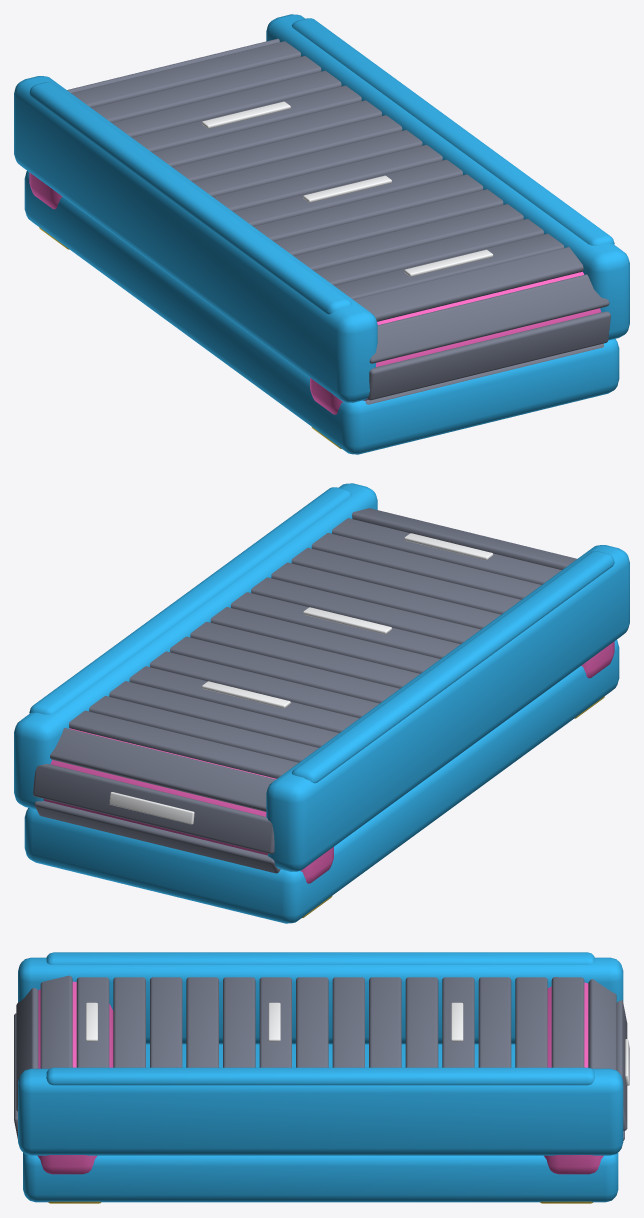
File: DF_belt.glb
The picture shows the model from 3 angles, top to bottom: view 1: azimuth 30°, elevation 25°; view 2: azimuth 150°, elevation 25°; view 3: azimuth 270°, elevation 25°; orthographic projection. The views are drawn at different scales.
Visible parts, largest first — view 1: Conveyor_LeftHousing, Conveyor_Base, Conveyor_RightHousing, Conveyor_LeftTopRail, Conveyor_Slat_35, Conveyor_Slat_34, Conveyor_RightTopRail, Conveyor_Slat_00, Conveyor_Slat_03, Conveyor_Slat_04, Conveyor_Slat_05, Conveyor_Slat_07 (+16 smaller); view 2: Conveyor_LeftHousing, Conveyor_Base, Conveyor_RightHousing, Conveyor_LeftTopRail, Conveyor_Slat_16, Conveyor_RightTopRail, Conveyor_Slat_15, Conveyor_Slat_14, Conveyor_Slat_03, Conveyor_Slat_04, Conveyor_Slat_07, Conveyor_Slat_08 (+16 smaller); view 3: Conveyor_RightHousing, Conveyor_Base, Conveyor_LeftHousing, Conveyor_RightTopRail, Conveyor_LeftTopRail, Conveyor_Slat_10, Conveyor_Slat_12, Conveyor_Slat_14, Conveyor_Slat_02, Conveyor_Slat_03, Conveyor_Slat_04, Conveyor_Slat_05 (+19 smaller).
Part boxes in pixels (left/top/right/bottom): Conveyor_LeftHousing: left=14, top=76, right=377, bottom=402; Conveyor_Base: left=24, top=171, right=619, bottom=454; Conveyor_RightHousing: left=266, top=14, right=629, bottom=340; Conveyor_LeftTopRail: left=29, top=82, right=351, bottom=314; Conveyor_Slat_35: left=369, top=274, right=609, bottom=363; Conveyor_Slat_34: left=367, top=311, right=610, bottom=400; Conveyor_RightTopRail: left=292, top=18, right=614, bottom=245; Conveyor_Slat_00: left=353, top=247, right=583, bottom=321; Conveyor_Slat_03: left=294, top=204, right=523, bottom=270; Conveyor_Slat_04: left=274, top=189, right=503, bottom=255; Conveyor_Slat_05: left=253, top=174, right=483, bottom=241; Conveyor_Slat_07: left=213, top=145, right=442, bottom=211; Conveyor_LeftHousing: left=266, top=545, right=629, bottom=871; Conveyor_Base: left=24, top=640, right=619, bottom=923; Conveyor_RightHousing: left=14, top=483, right=377, bottom=809; Conveyor_LeftTopRail: left=292, top=551, right=614, bottom=783; Conveyor_Slat_16: left=33, top=764, right=274, bottom=853; Conveyor_RightTopRail: left=29, top=487, right=351, bottom=714; Conveyor_Slat_15: left=50, top=728, right=275, bottom=811; Conveyor_Slat_14: left=69, top=710, right=298, bottom=778; Conveyor_Slat_03: left=291, top=547, right=521, bottom=614; Conveyor_Slat_04: left=271, top=562, right=500, bottom=629; Conveyor_Slat_07: left=210, top=607, right=439, bottom=673; Conveyor_Slat_08: left=190, top=622, right=419, bottom=688; Conveyor_RightHousing: left=18, top=1068, right=623, bottom=1155; Conveyor_Base: left=23, top=1044, right=618, bottom=1202; Conveyor_LeftHousing: left=18, top=957, right=623, bottom=1044; Conveyor_RightTopRail: left=46, top=1067, right=594, bottom=1085; Conveyor_LeftTopRail: left=46, top=952, right=594, bottom=964; Conveyor_Slat_10: left=405, top=977, right=438, bottom=1067; Conveyor_Slat_12: left=478, top=977, right=511, bottom=1067; Conveyor_Slat_14: left=551, top=977, right=584, bottom=1067; Conveyor_Slat_02: left=113, top=977, right=145, bottom=1067; Conveyor_Slat_03: left=150, top=977, right=182, bottom=1067; Conveyor_Slat_04: left=186, top=977, right=218, bottom=1067; Conveyor_Slat_05: left=223, top=977, right=255, bottom=1067.
Bounding box in the file's own units: 2.52 × 1.22 × 5.11.
